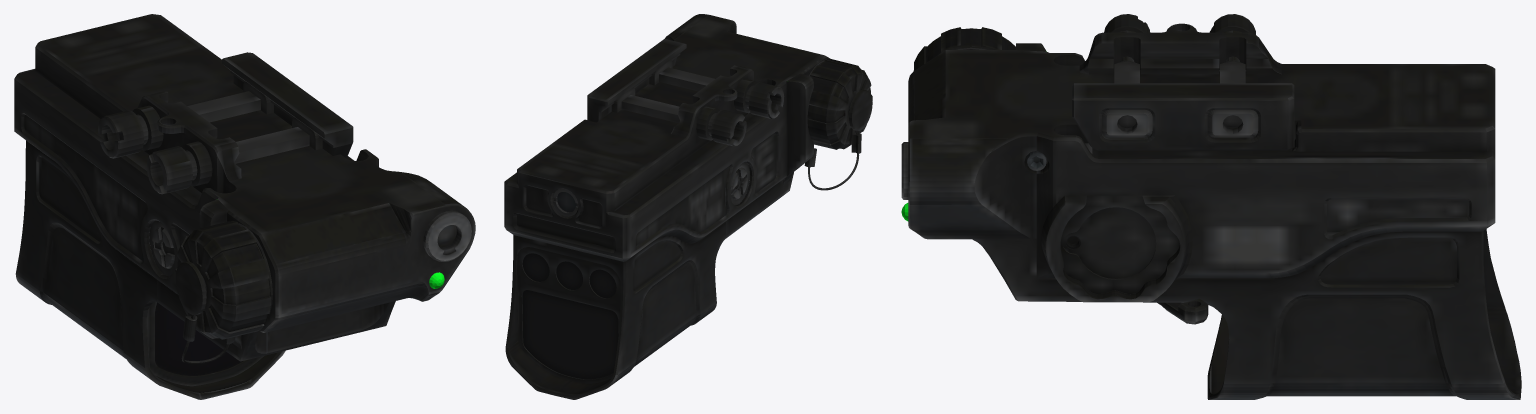
3 renders of one model, left to right at view 1: azimuth 30°, elevation 25°; view 2: azimuth 150°, elevation 25°; view 3: azimuth 270°, elevation 25°, orthographic. The views are drawn at different scales.
Visible parts, largest first — view 1: TW_655f13e0a246670fb0373245_mode3_PZ_Import; view 2: TW_655f13e0a246670fb0373245_mode3_PZ_Import; view 3: TW_655f13e0a246670fb0373245_mode3_PZ_Import.
Boxes of the visible parts, box(x1,y1,x2,y2) form: TW_655f13e0a246670fb0373245_mode3_PZ_Import: box(14, 14, 475, 399); TW_655f13e0a246670fb0373245_mode3_PZ_Import: box(504, 14, 872, 399); TW_655f13e0a246670fb0373245_mode3_PZ_Import: box(901, 14, 1521, 399).
Size of the model in its own units: 0.0355 by 0.0678 by 0.0389.
Materials: 1 (1 with a texture image).
